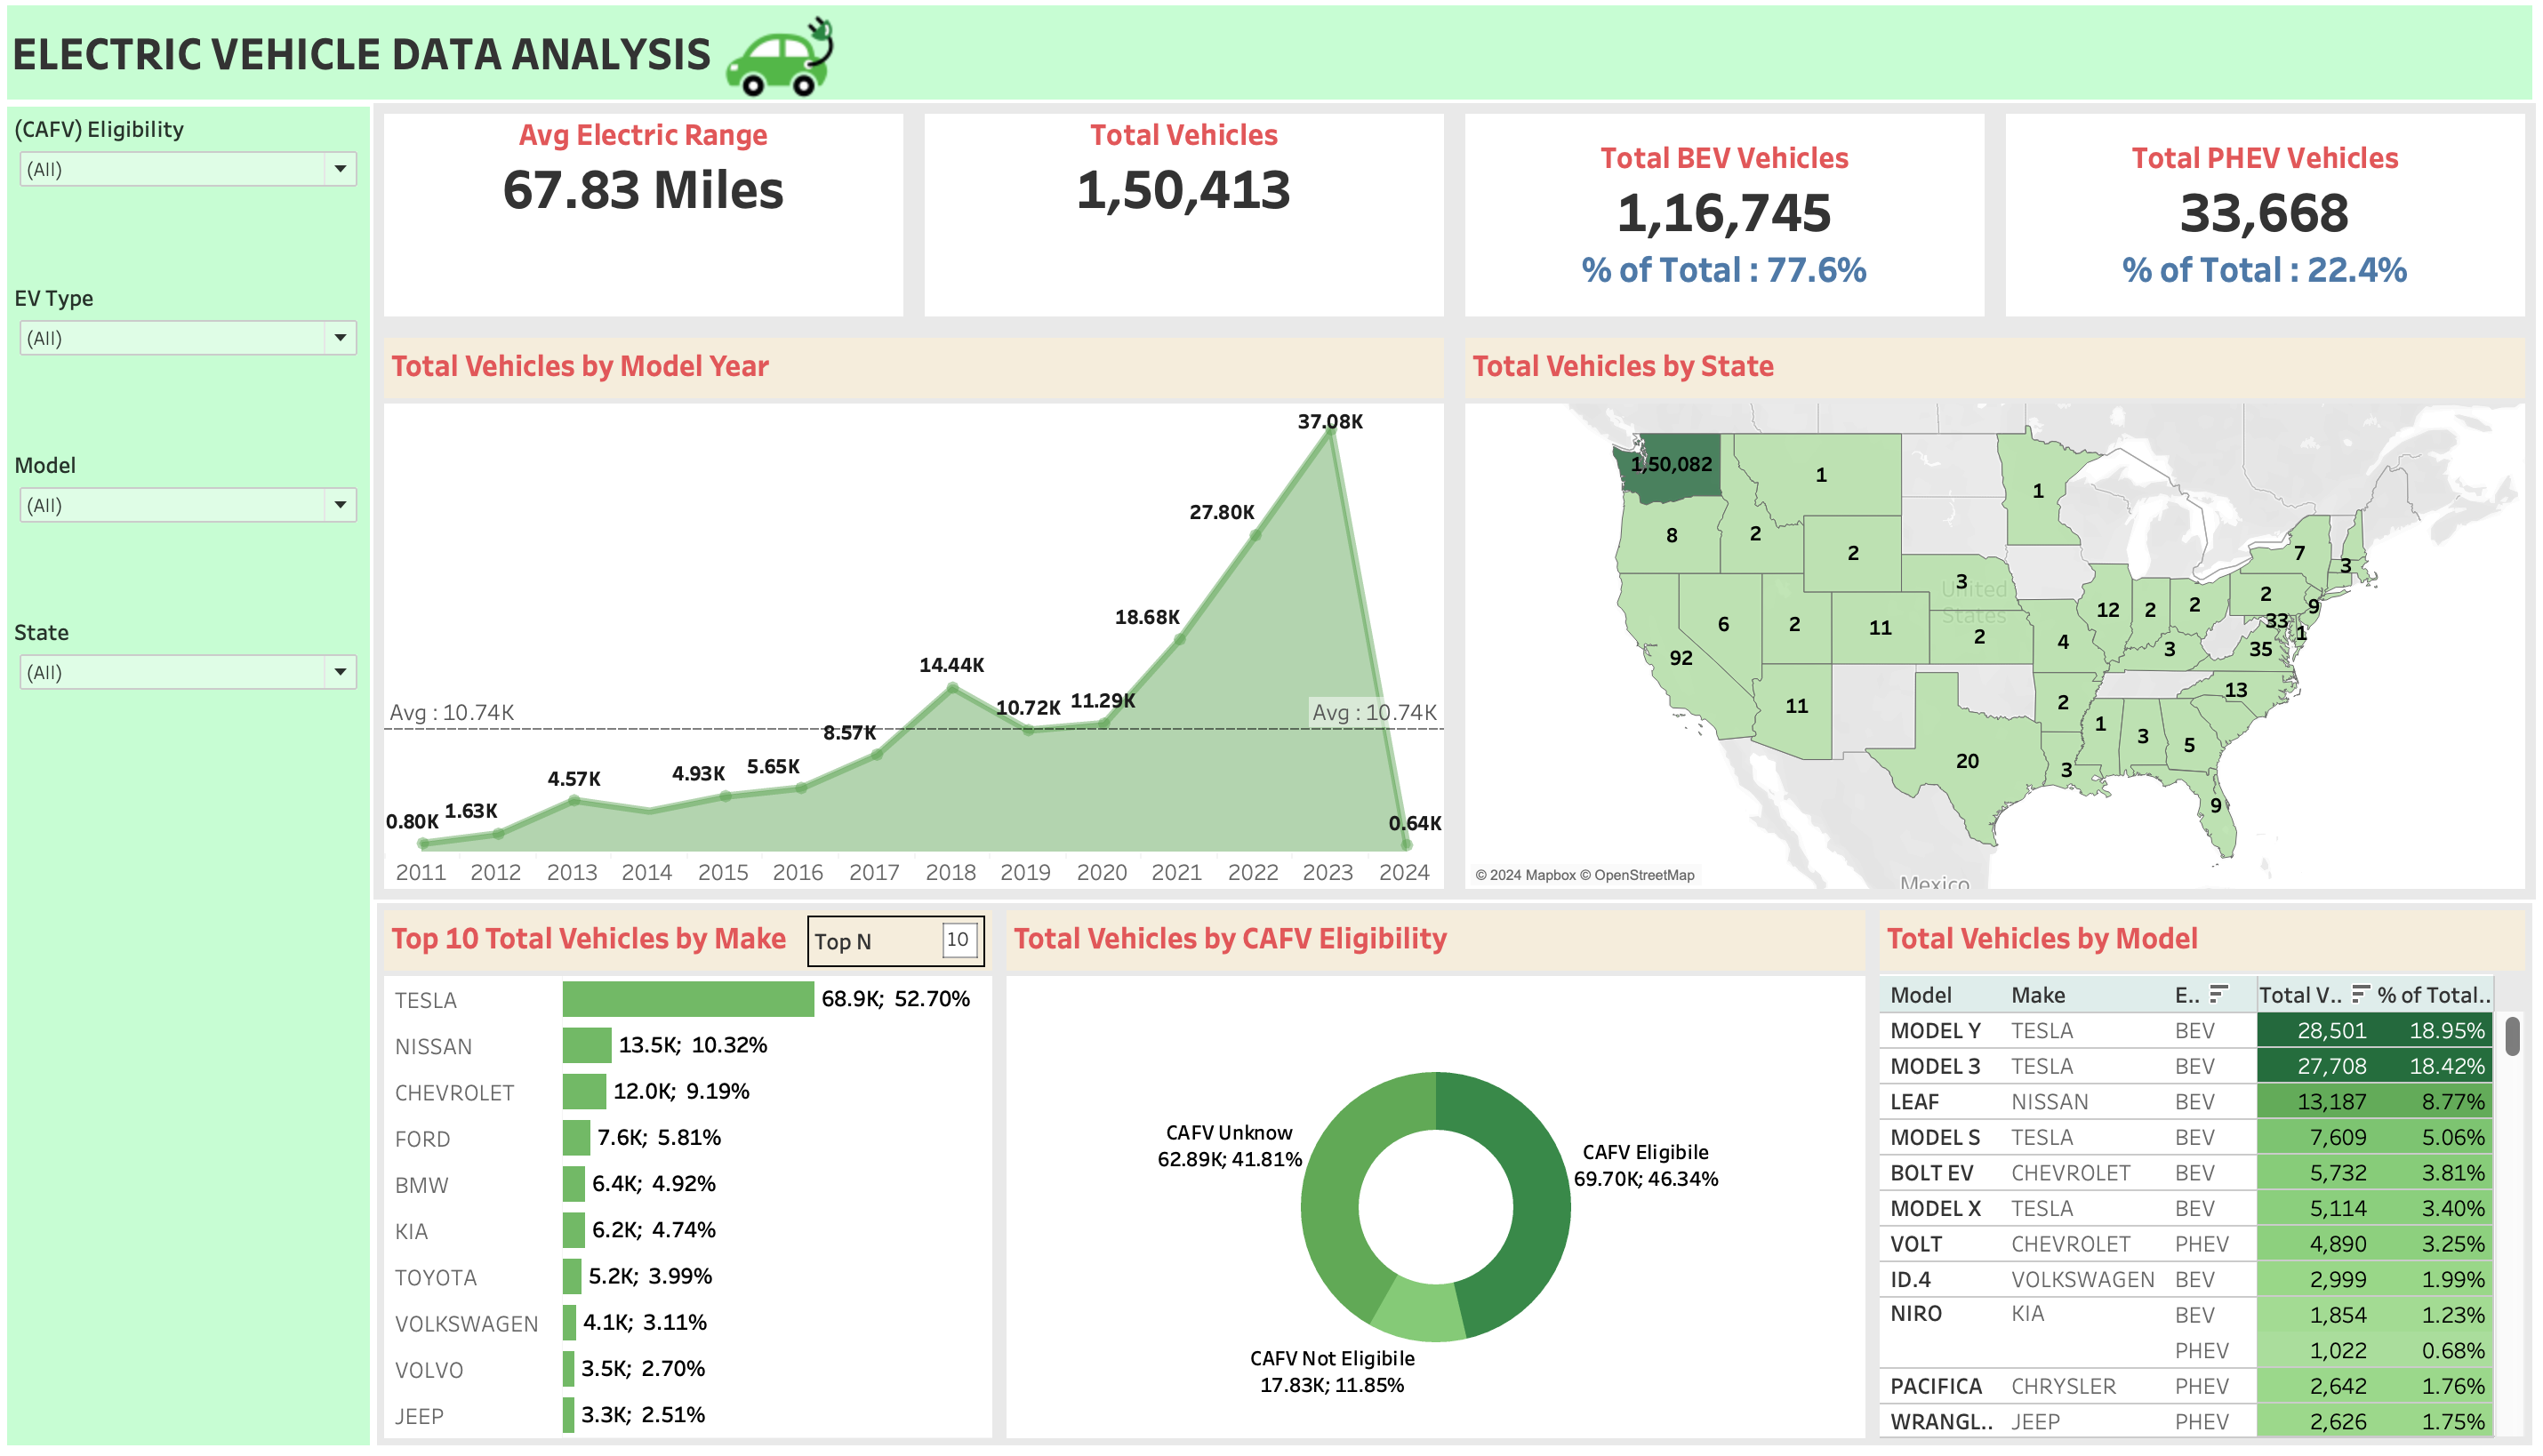

The page's visual inventory and layout, read from the dashboard file:
{"tool":"tableau","page":{"name":"Dashboard 1","canvas":[1000,1000],"units":"permille","ordinal":0},"visuals":[{"type":"image","param":"Image/pngimg.com - electric_car_PNG53.png","box":[257.1,9.1,105,69]},{"type":"title","box":[6.5,10.4,987,68.6]},{"type":"worksheet","title":"Avg Electric Range","mark":"Automatic","box":[150.5,79.4,210.7,151]},{"type":"worksheet","title":"Total Vehicles","mark":"Automatic","box":[361.3,79.4,210.7,151]},{"type":"worksheet","title":"Total BEV Vehicles","mark":"Automatic","box":[572,79.4,210.7,151]},{"type":"worksheet","title":"Total PHEV Vehicles","mark":"Automatic","box":[782.8,79.4,210.7,151]},{"type":"filter","title":"Total Vehicles by Model Year ","param":"[federated.12nq0b91au1agb13wutfp191tuc0].[none:Clean Alternative Fuel Vehicle (C","box":[8.1,82,140.8,113.3]},{"type":"filter","title":"Top 10 Total Vehicles by Make","param":"[federated.12nq0b91au1agb13wutfp191tuc0].[none:Electric Vehicle Type:nk]","box":[8.1,195.3,140.8,113.3]},{"type":"worksheet","title":"Total Vehicles by Model Year ","mark":"Area","rows":["Calculation_256775578273902592","Calculation_256775578273902592"],"cols":["Model Year"],"box":[150.5,230.8,421.6,386.8]},{"type":"worksheet","title":"Total Vehicles by State","mark":"Multipolygon","box":[572.1,230.8,421.4,386.8]},{"type":"filter","title":"Total Vehicles by Model Year ","param":"[federated.12nq0b91au1agb13wutfp191tuc0].[none:Model:nk]","box":[8.1,308.6,140.8,113.3]},{"type":"filter","title":"Top 10 Total Vehicles by Make","param":"[federated.12nq0b91au1agb13wutfp191tuc0].[none:State:nk]","box":[8.1,421.9,140.8,113.3]},{"type":"blank","box":[8.1,535.2,140.8,113.3]},{"type":"worksheet","title":"Top 10 Total Vehicles by Make","mark":"Automatic","rows":["Make"],"cols":["Calculation_256775578273902592"],"box":[152.2,620.2,284.8,366.8]},{"type":"worksheet","title":"Total Vehicles by CAFV Eligibility","mark":"Pie","rows":["Calculation_256775578303131656","Calculation_256775578303168522"],"box":[436.9,620.2,253.1,366.8]},{"type":"worksheet","title":"Total Vehicles by Model","mark":"Square","rows":["Model","Make","Electric Vehicle Type"],"box":[690,620.2,301.9,366.8]},{"type":"parameter","param":"[Parameters].[Parameter 1]","box":[319.8,628.4,69.2,35.2]},{"type":"blank","box":[8.1,648.4,140.8,113.3]},{"type":"blank","box":[8.1,761.7,140.8,113.3]},{"type":"blank","box":[8.1,875,140.8,112]}]}

Visuals, with their boxes on the dashboard's canvas, which has no fixed pixel size, in thousandths of its width and height (x1, y1, x2, y2). These are canvas units, not pixel positions in the 2543x1456 screenshot, which may show the page scaled, cropped or inside an application window:
image: bbox=[257, 9, 362, 78]
title: bbox=[6, 10, 994, 79]
"Avg Electric Range" worksheet: bbox=[150, 79, 361, 230]
"Total Vehicles" worksheet: bbox=[361, 79, 572, 230]
"Total BEV Vehicles" worksheet: bbox=[572, 79, 783, 230]
"Total PHEV Vehicles" worksheet: bbox=[783, 79, 994, 230]
"Total Vehicles by Model Year " filter: bbox=[8, 82, 149, 195]
"Top 10 Total Vehicles by Make" filter: bbox=[8, 195, 149, 309]
"Total Vehicles by Model Year " worksheet (Area marks): bbox=[150, 231, 572, 618]
"Total Vehicles by State" worksheet (Multipolygon marks): bbox=[572, 231, 994, 618]
"Total Vehicles by Model Year " filter: bbox=[8, 309, 149, 422]
"Top 10 Total Vehicles by Make" filter: bbox=[8, 422, 149, 535]
blank: bbox=[8, 535, 149, 648]
"Top 10 Total Vehicles by Make" worksheet: bbox=[152, 620, 437, 987]
"Total Vehicles by CAFV Eligibility" worksheet (Pie marks): bbox=[437, 620, 690, 987]
"Total Vehicles by Model" worksheet (Square marks): bbox=[690, 620, 992, 987]
parameter: bbox=[320, 628, 389, 664]
blank: bbox=[8, 648, 149, 762]
blank: bbox=[8, 762, 149, 875]
blank: bbox=[8, 875, 149, 987]
